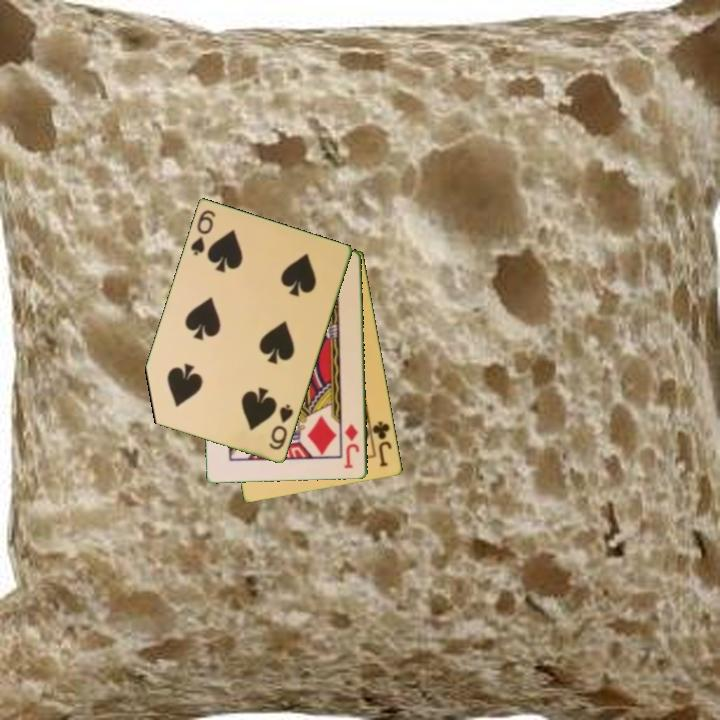6s: (187, 207, 218, 259), (266, 401, 296, 453)
Jc: (369, 418, 395, 470)
Jd: (341, 421, 362, 471)
